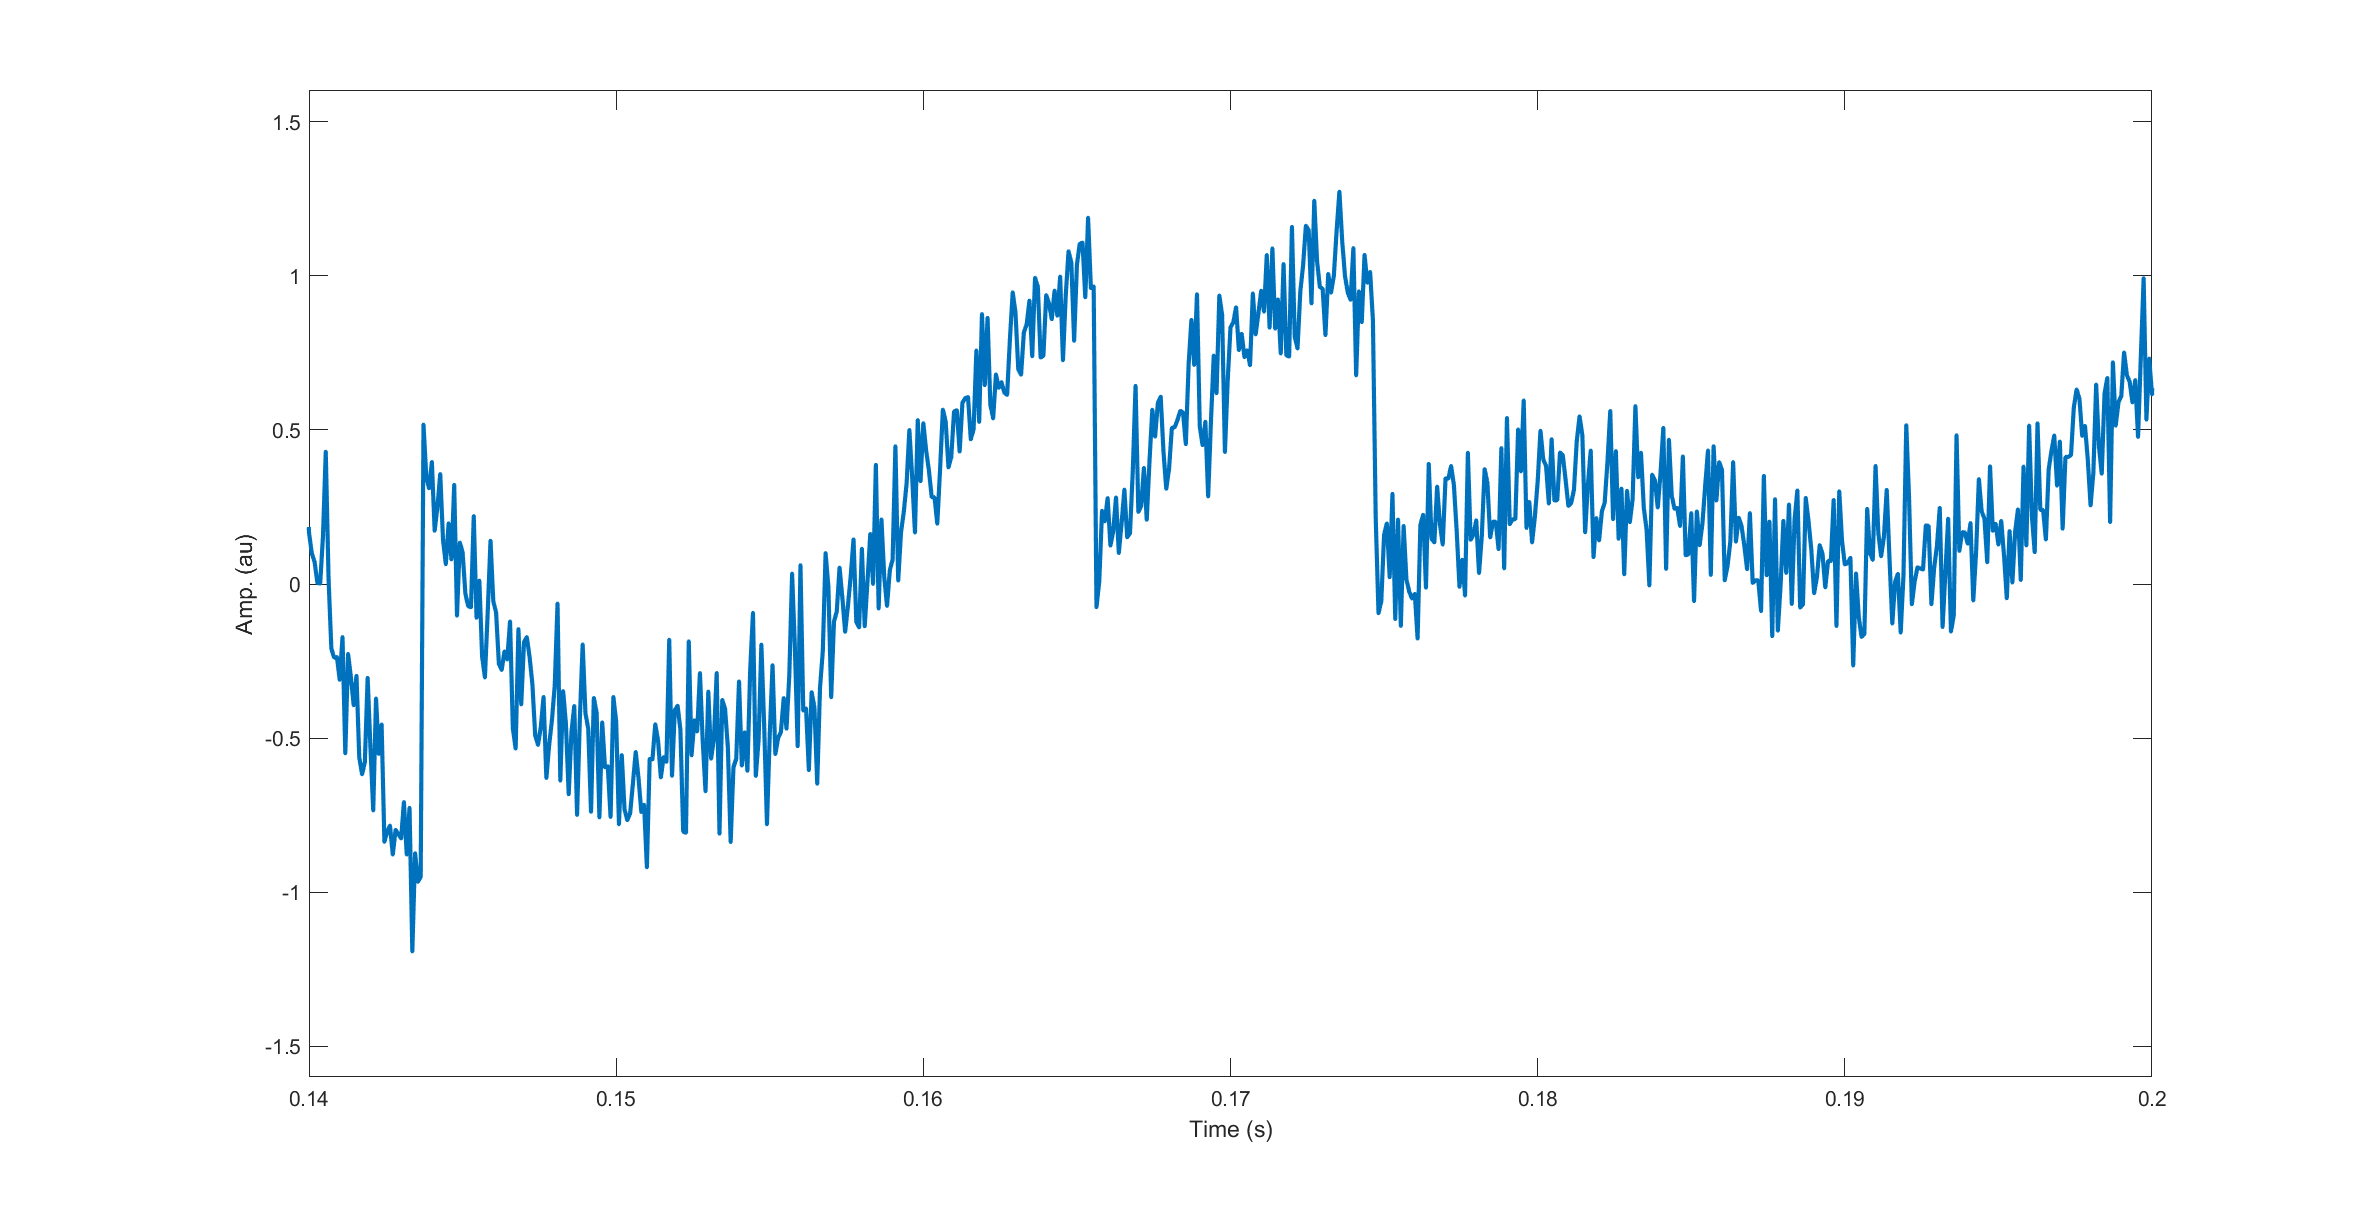negative_fringe: (400, 401, 568, 962)
positive_fringe: (1120, 174, 1390, 613), (938, 204, 1106, 613)
